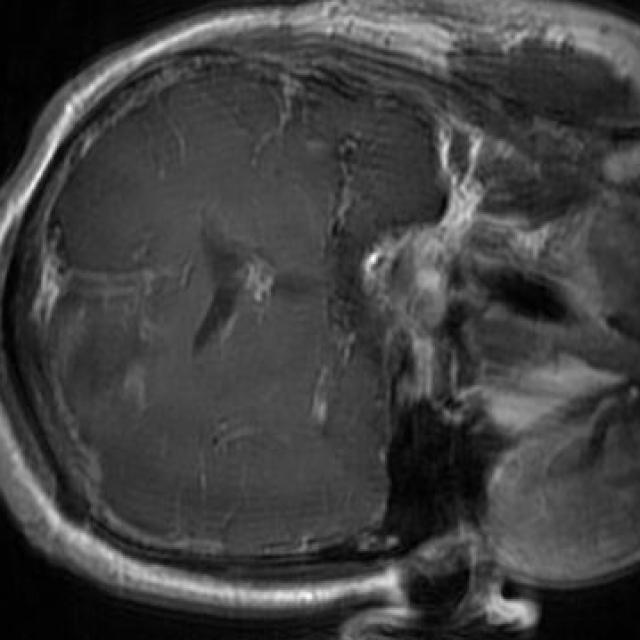glioma: (57, 273, 148, 405)
